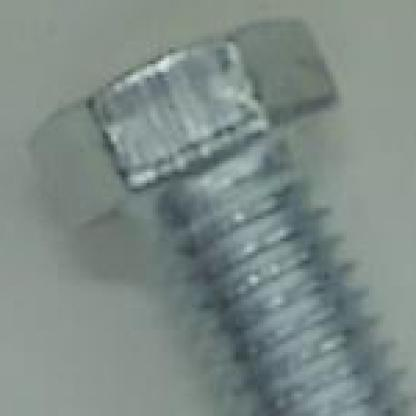FOD: (20, 11, 414, 413)
